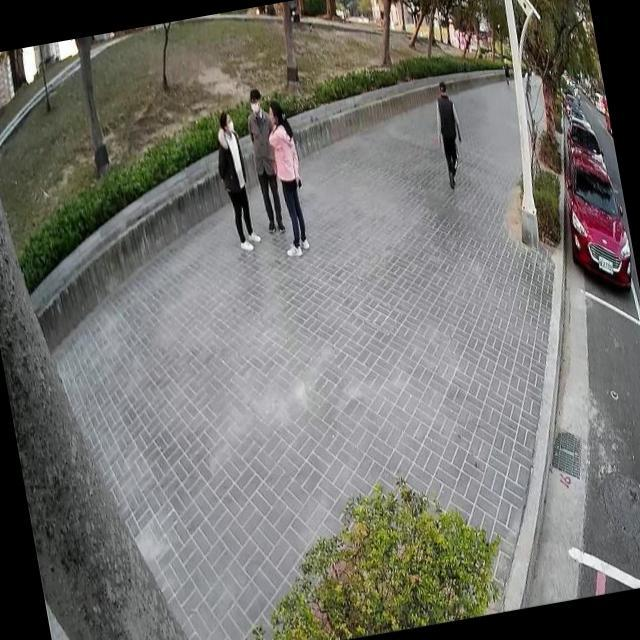person: (255, 93, 316, 260), (206, 100, 264, 253), (240, 82, 294, 238), (424, 76, 471, 192)
